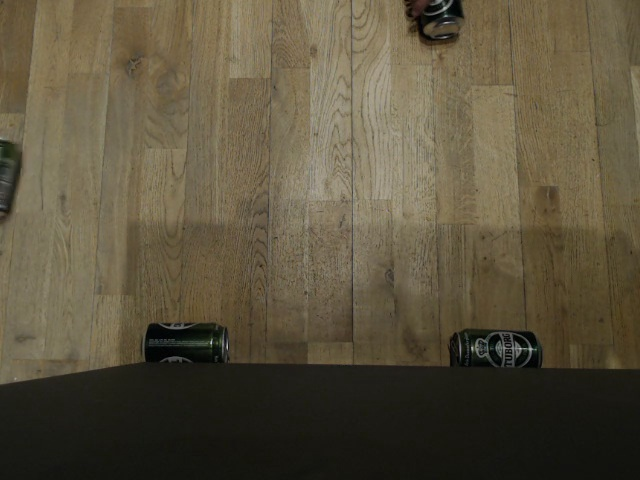beer: (413, 0, 464, 39), (0, 139, 21, 220)
